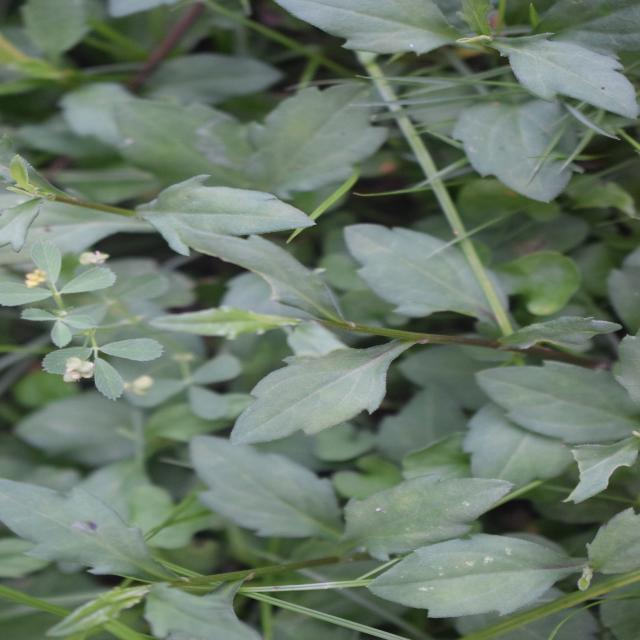Indian aster: (184, 155, 422, 524), (0, 28, 183, 505)
